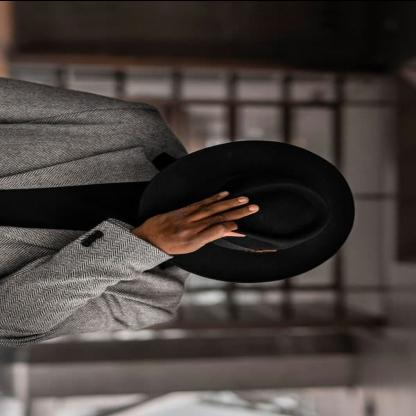hat: (134, 134, 360, 288)
